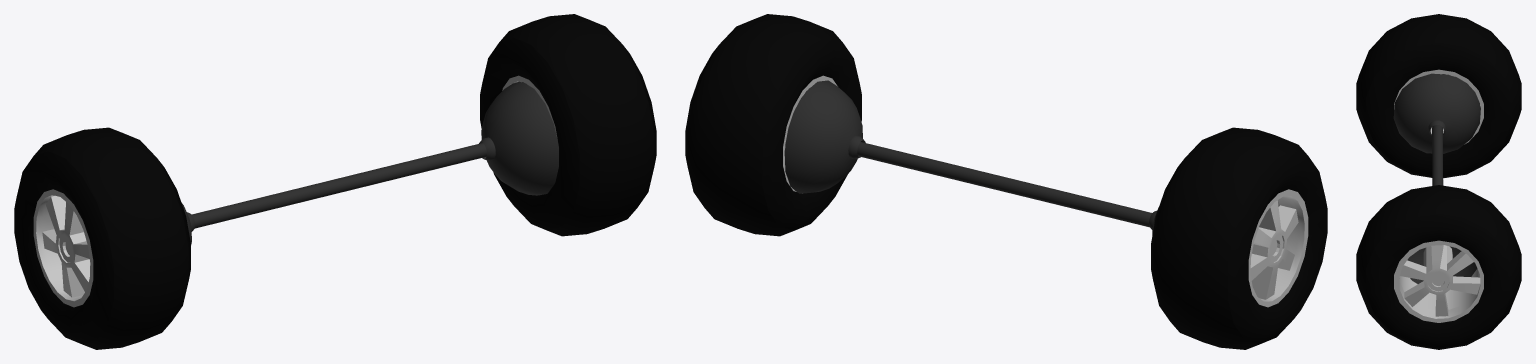
Rendered from carrofrontwheels.dae.
3 renders of one model, left to right at view 1: azimuth 30°, elevation 25°; view 2: azimuth 150°, elevation 25°; view 3: azimuth 270°, elevation 25°, orthographic. The views are drawn at different scales.
Visible parts, largest first — view 1: Llanta_1, Llanta_2, Llanta_2_tubo, Llanta_1_rin, Tubo_delantero; view 2: Llanta_1, Llanta_2, Llanta_2_tubo, Llanta_1_rin, Tubo_delantero; view 3: Llanta_2, Llanta_1, Llanta_2_rin, Llanta_1_tubo, Tubo_delantero, Llanta_1_rin, Llanta_2_tubo.
Part boxes in pixels (box(x1,y1,x2,y2)): Llanta_1: box(14, 127, 190, 349); Llanta_2: box(480, 14, 656, 236); Llanta_2_tubo: box(479, 81, 558, 195); Llanta_1_rin: box(33, 189, 93, 307); Tubo_delantero: box(192, 143, 486, 228); Llanta_1: box(1151, 127, 1327, 349); Llanta_2: box(685, 14, 861, 236); Llanta_2_tubo: box(784, 80, 865, 193); Llanta_1_rin: box(1248, 189, 1308, 307); Tubo_delantero: box(857, 142, 1151, 227); Llanta_2: box(1356, 185, 1521, 349); Llanta_1: box(1356, 14, 1521, 178); Llanta_2_rin: box(1394, 240, 1483, 322); Llanta_1_tubo: box(1393, 73, 1480, 153); Tubo_delantero: box(1432, 125, 1443, 185); Llanta_1_rin: box(1394, 69, 1483, 144); Llanta_2_tubo: box(1407, 246, 1477, 283).
Bounding box in the file's own units: 0.7018 × 0.2379 × 0.2416.
3 materials, 3 textured.
